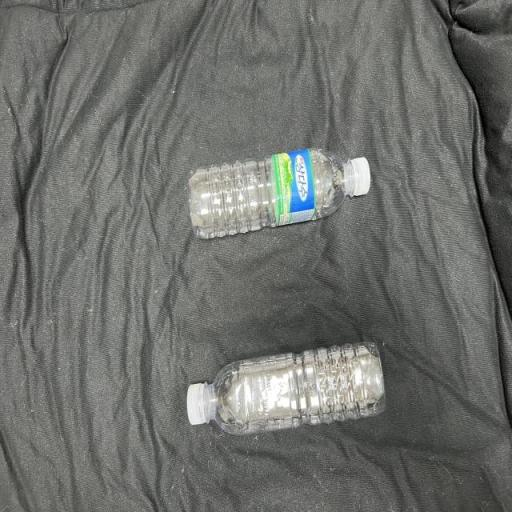plastic: (183, 336, 388, 444), (186, 141, 374, 245)
